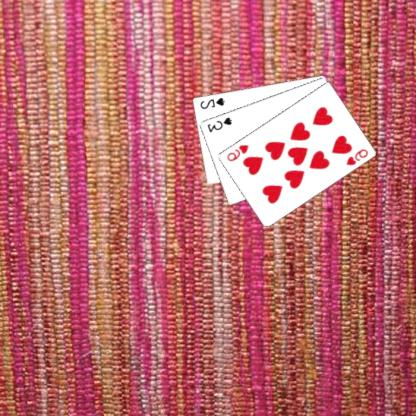2S: (199, 94, 228, 110)
3S: (206, 114, 235, 134)
9H: (345, 146, 371, 166), (226, 142, 251, 162)
